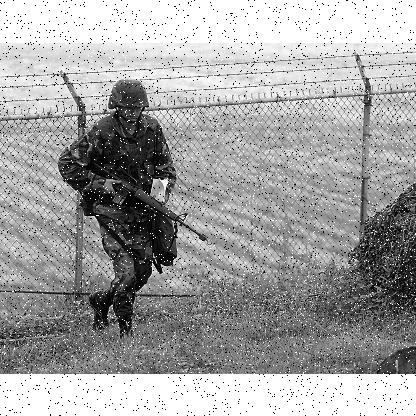gun: (88, 158, 212, 244)
